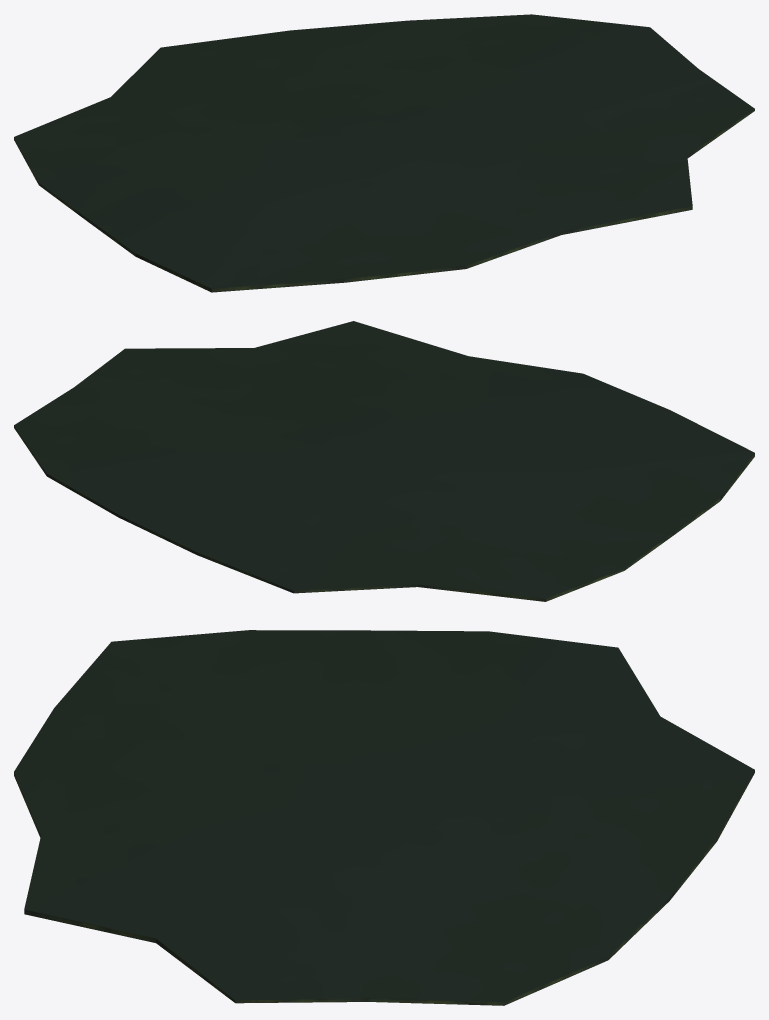
File: Tank_Interior_Floor.glb
3 renders of one model, top to bottom at view 1: azimuth 30°, elevation 25°; view 2: azimuth 150°, elevation 25°; view 3: azimuth 270°, elevation 25°, orthographic. The views are drawn at different scales.
Visible parts, largest first — view 1: Tank_Interior_Floor; view 2: Tank_Interior_Floor; view 3: Tank_Interior_Floor.
Part boxes in pixels (<box>): Tank_Interior_Floor: <box>14,14,754,292</box>; Tank_Interior_Floor: <box>14,321,754,601</box>; Tank_Interior_Floor: <box>14,630,754,1005</box>.
Size of the model in its own units: 12.2 by 0.14 by 10.28.
Materials: 1 (1 with a texture image).
